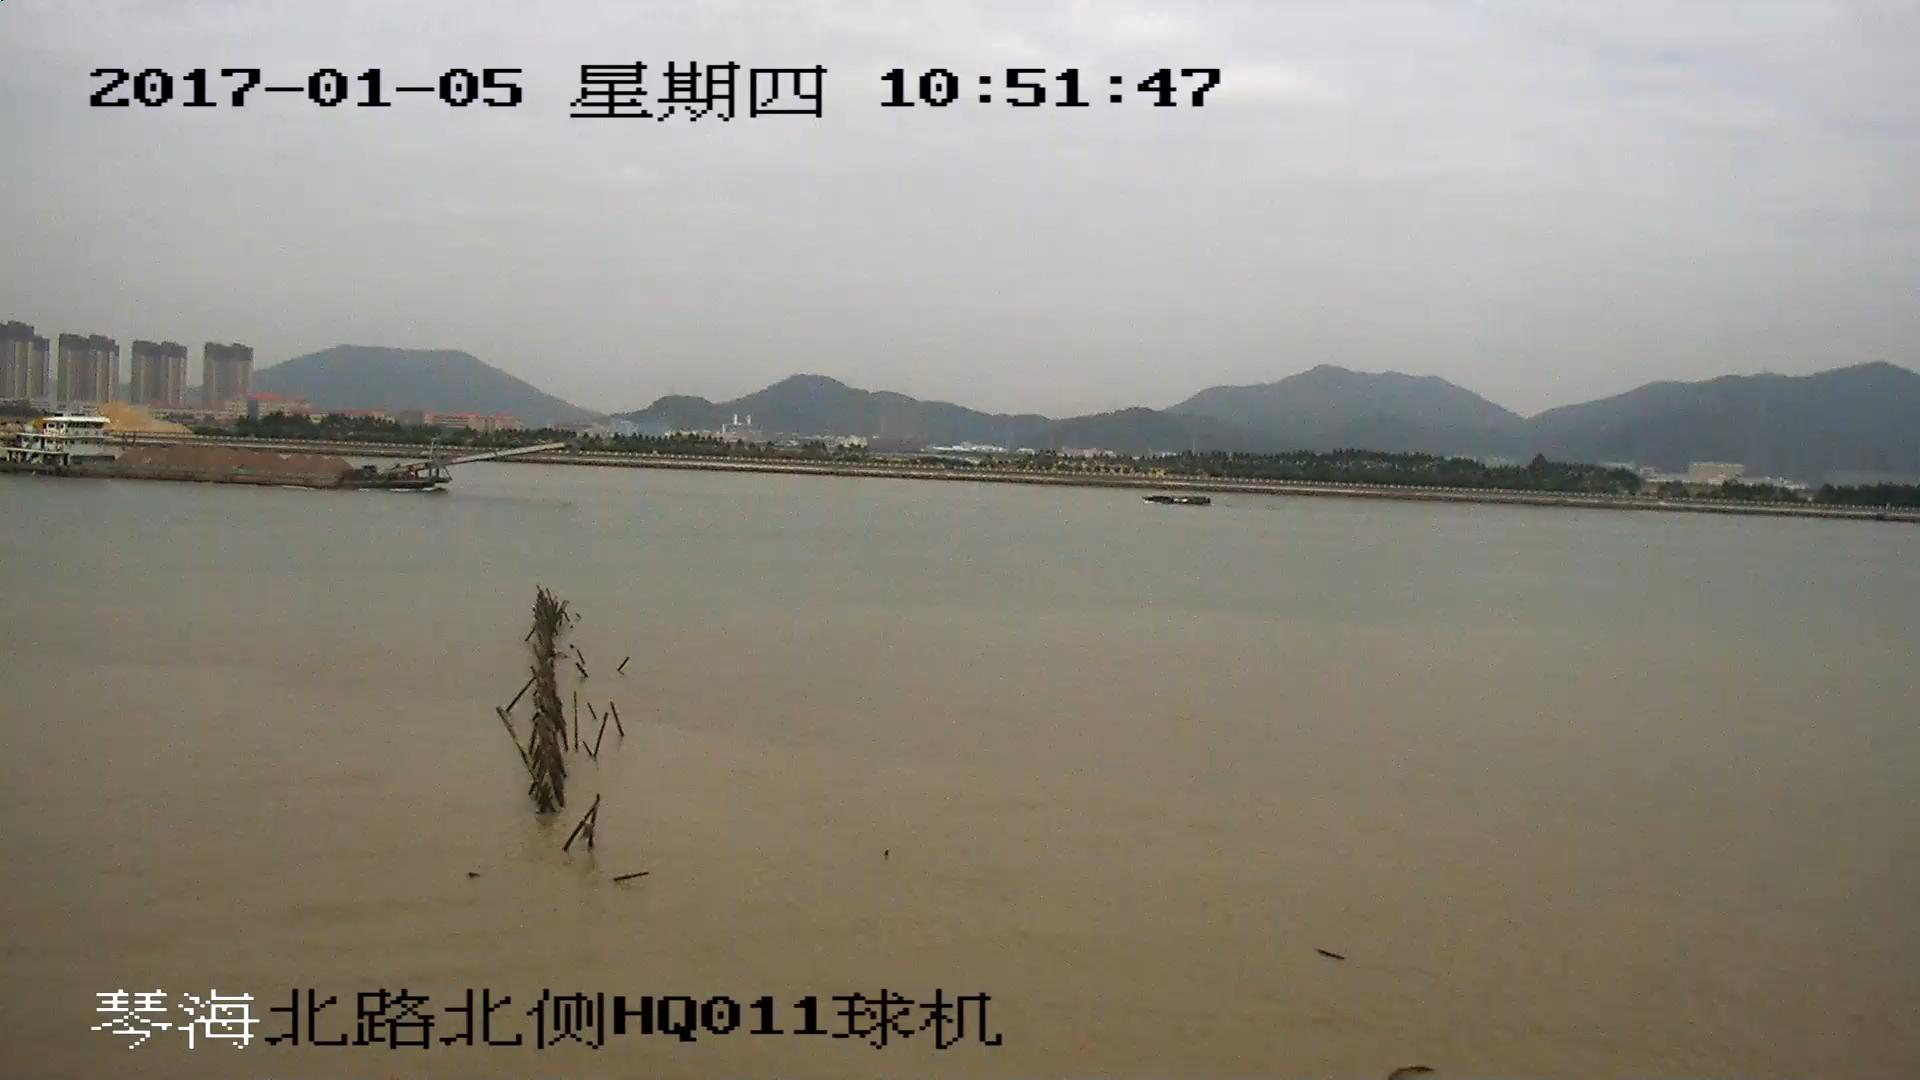ore carrier: (1, 418, 552, 488)
